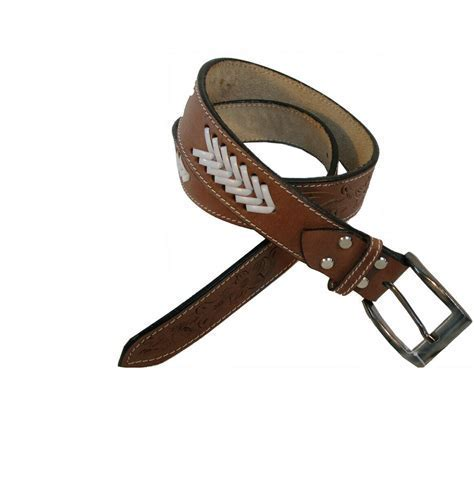cuero: (119, 58, 411, 370)
